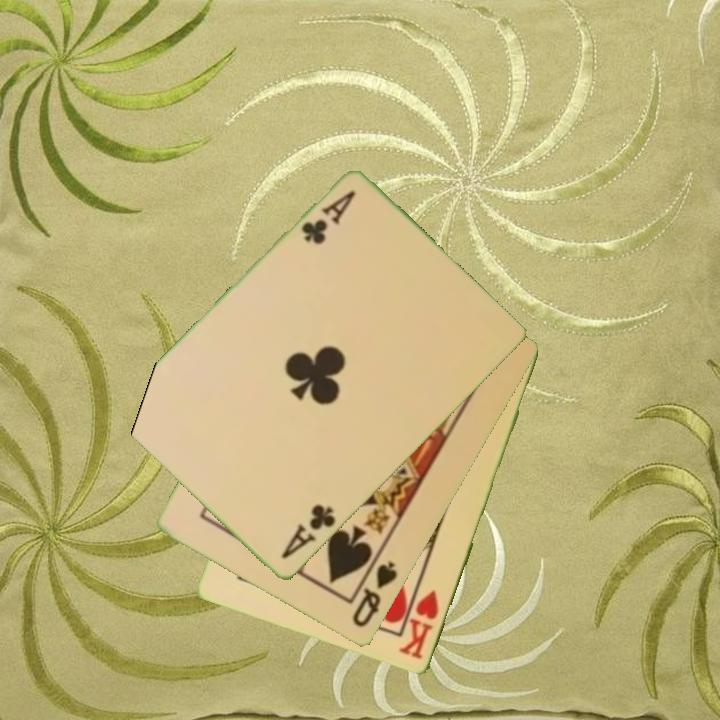Ac: (277, 501, 339, 563), (297, 187, 359, 249)
Kh: (397, 587, 442, 663)
Qs: (349, 558, 401, 631)
